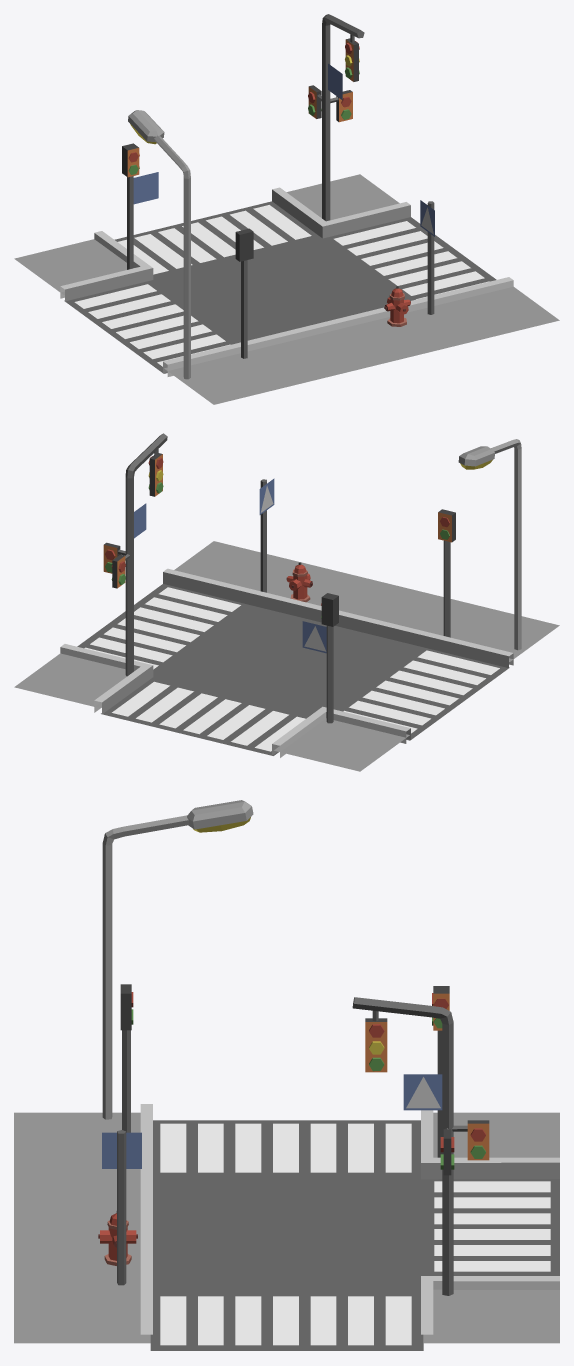
File: road_tile_1x1_005.fbx
3 views of the same model, one above another, from view 1: azimuth 30°, elevation 25°; view 2: azimuth 150°, elevation 25°; view 3: azimuth 270°, elevation 25° (orthographic). The views are drawn at different scales.
Visible parts, largest first — view 1: road_tile_1x1_005; view 2: road_tile_1x1_005; view 3: road_tile_1x1_005.
Boxes of the visible parts, box(x1,y1,x2,y2) form: road_tile_1x1_005: box(14, 14, 559, 404); road_tile_1x1_005: box(14, 433, 559, 771); road_tile_1x1_005: box(14, 800, 559, 1350).
Bounding box in the file's own units: 802 × 525 × 800.
